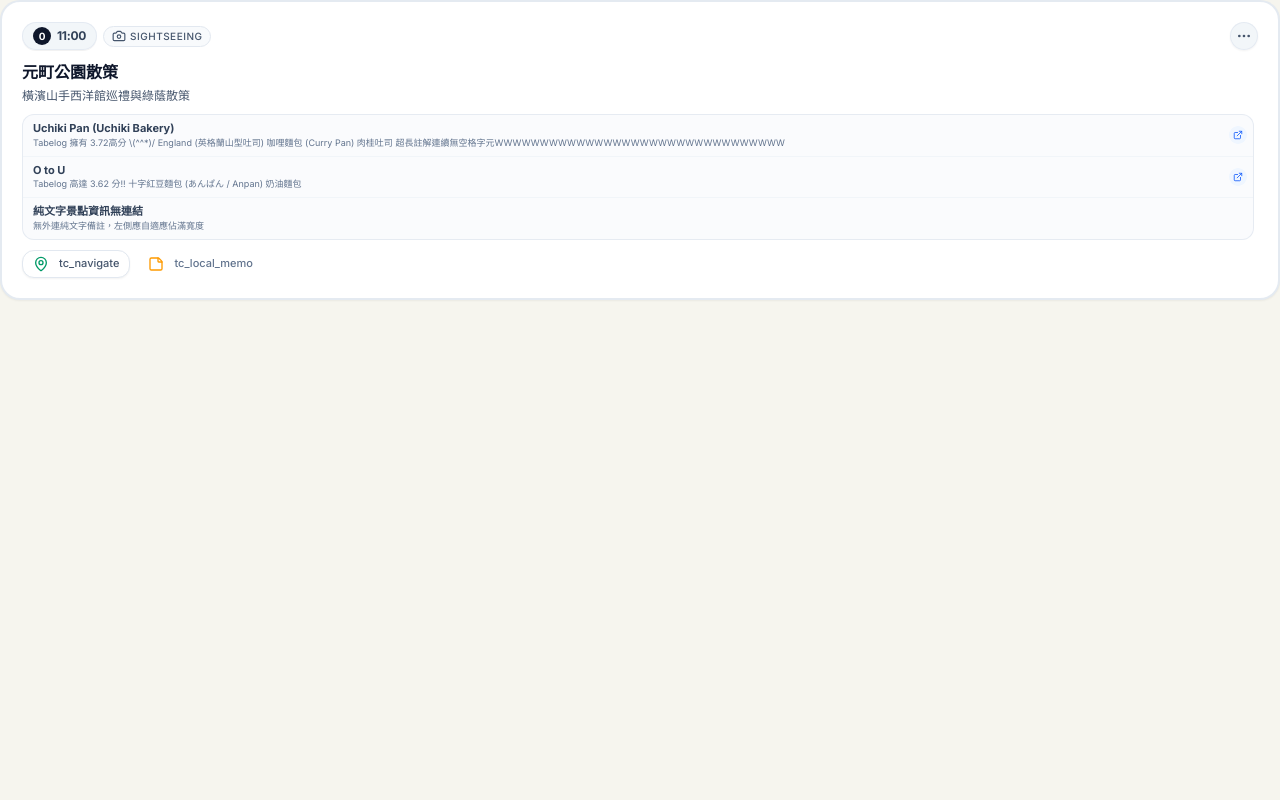
Scenario: 🛡️ Security Sentinel & Adaptive Layout: Memo Link Long Content Defense › TC-Adaptive-1: 點開此地備忘錄，子項目標題與長註解必須具備 break-words 自適應折行，禁止 whitespace-nowrap 橫向撐破
The image size is (1280, 800).
//  打開此地備忘錄
Step 1. Click the button "tc_local_memo" → [201, 264], box 138,250 -> 263,278
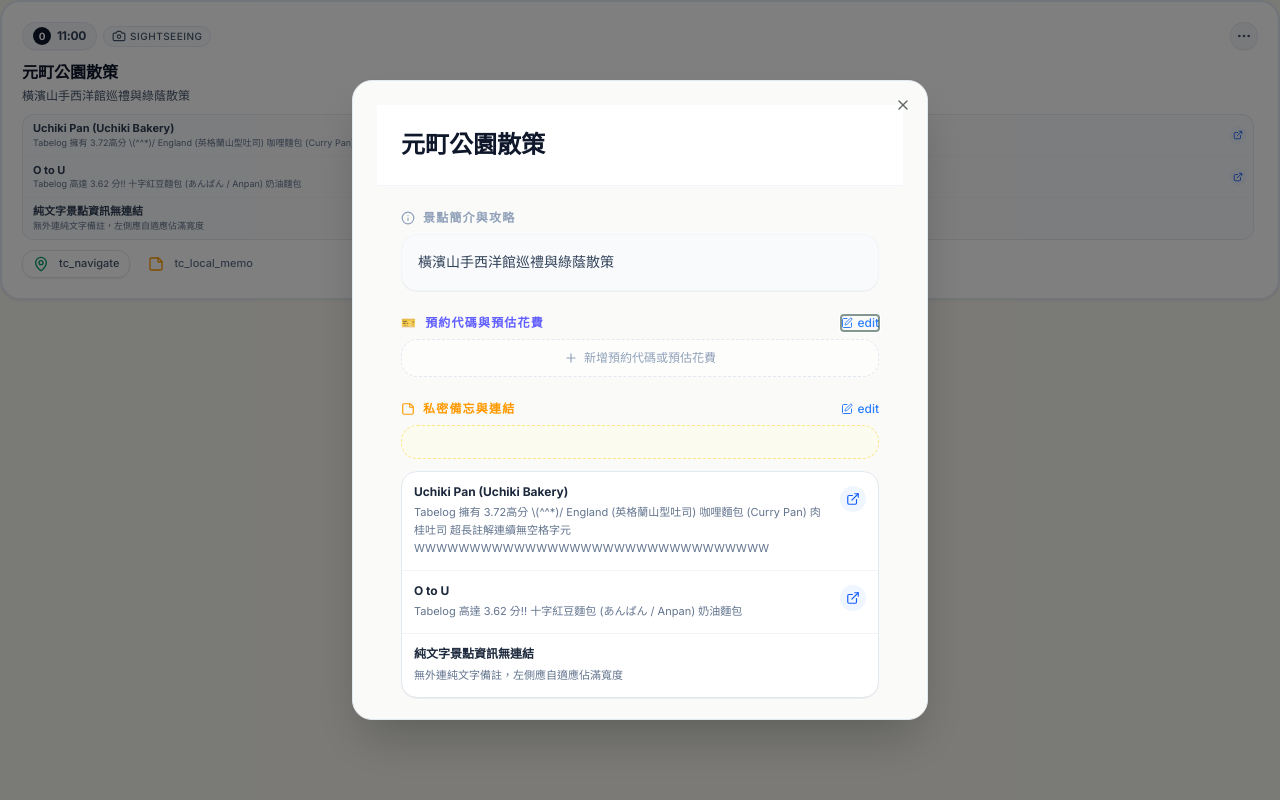
Result: the dialog is shown at 352,80 -> 928,720
